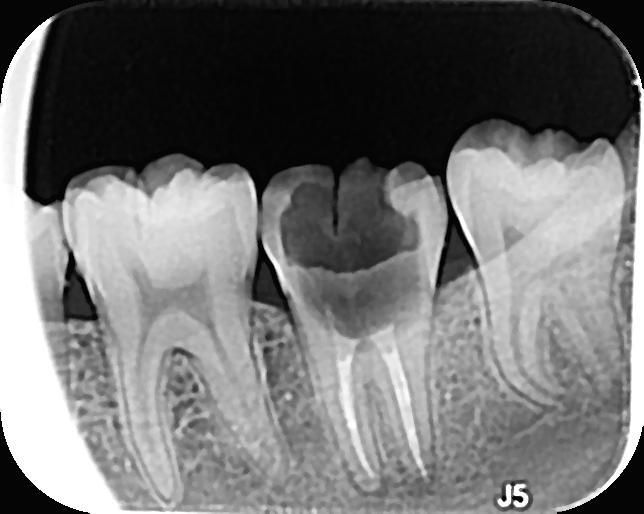individual-tooth-8tto: (57, 149, 287, 511), (251, 160, 446, 491), (444, 116, 622, 408)
